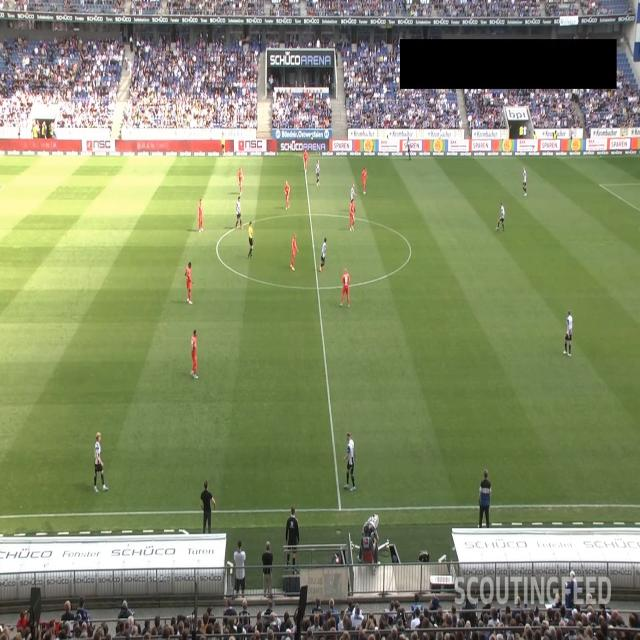ball: (495, 226, 499, 232)
